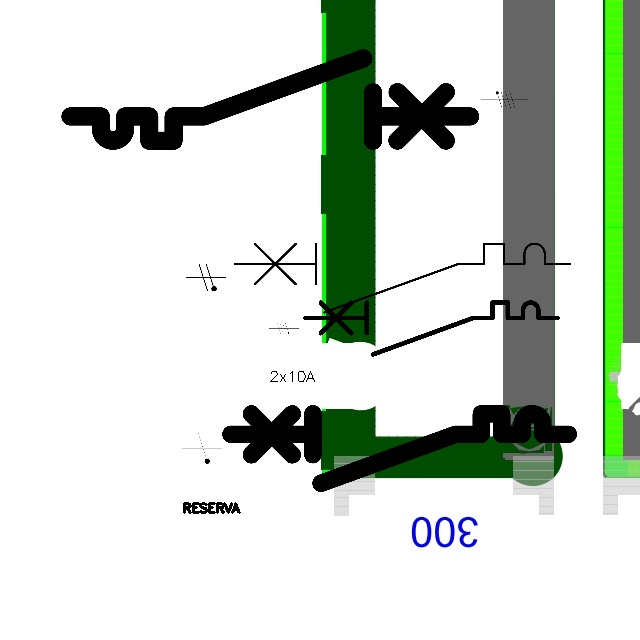interruptor_termomagnetico: (60, 48, 480, 151), (222, 405, 577, 492), (225, 235, 578, 321), (299, 296, 564, 361)
